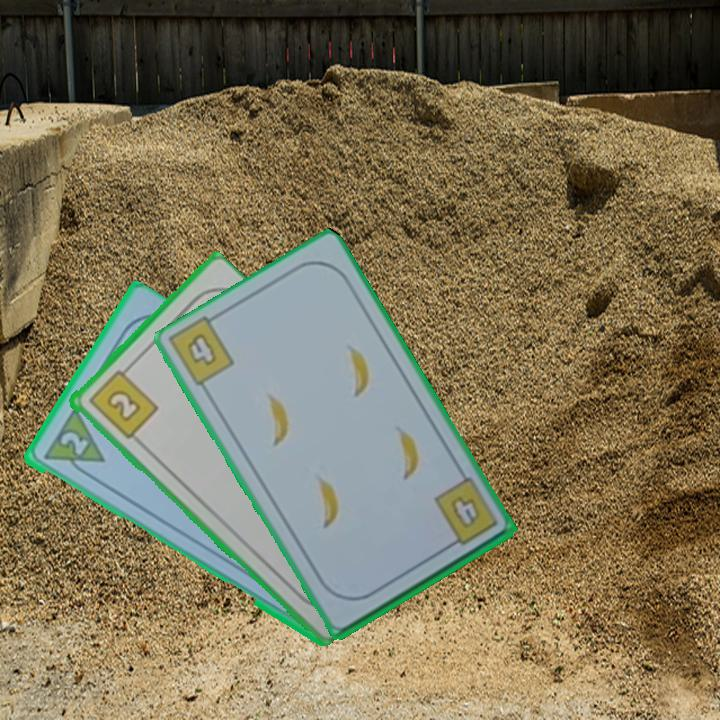2b: (84, 362, 160, 442)
2p: (56, 428, 91, 459)
4b: (430, 477, 501, 552), (182, 329, 220, 369)
